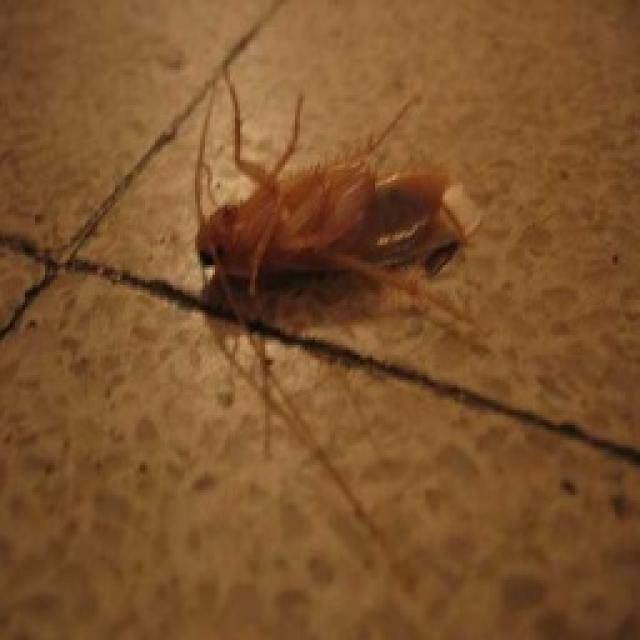cockroach: (176, 120, 494, 342)
